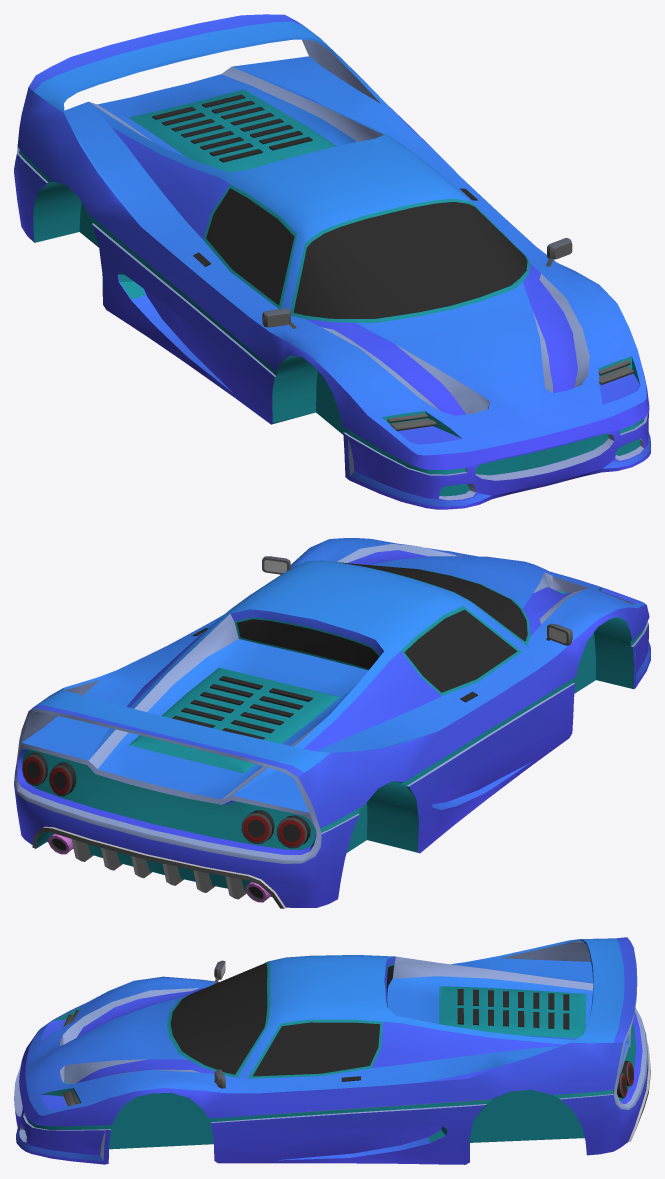
The model's file is Car_15.fbx.
3 renders of one model, top to bottom at view 1: azimuth 30°, elevation 25°; view 2: azimuth 150°, elevation 25°; view 3: azimuth 270°, elevation 25°, orthographic. The views are drawn at different scales.
Visible parts, largest first — view 1: Car_15; view 2: Car_15; view 3: Car_15.
Part boxes in pixels (<box>): Car_15: <box>14,14,650,509</box>; Car_15: <box>14,538,650,908</box>; Car_15: <box>14,937,650,1164</box>.
Size of the model in its own units: 192 by 97.41 by 423.
